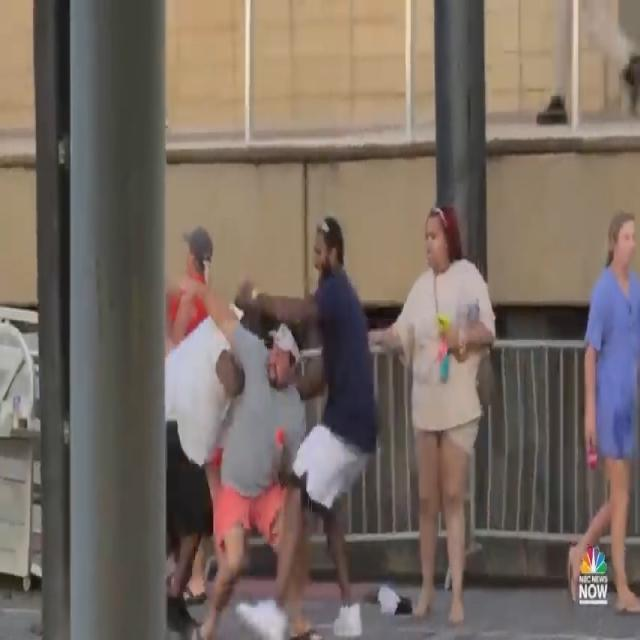fight: (167, 185, 505, 635)
non-fight: (376, 192, 499, 626), (561, 192, 640, 639)
